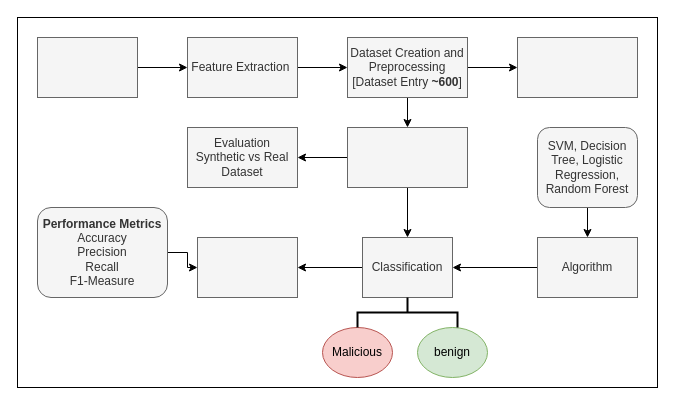
Some shapes in this 675 by 405 pixel diagram are drawn without their labels. The box of each missing label's shape, as (x1, y1, x2, y2) in pixels:
APK File Collection: (36, 36, 138, 98)
Dataset Evaluation using Few Shot Learning: (516, 36, 638, 98)
Evaluation: (196, 236, 298, 298)
Synthetic Dataset Generation Using CTGAN [Dataset Entry ~10000 ]: (346, 126, 468, 188)
